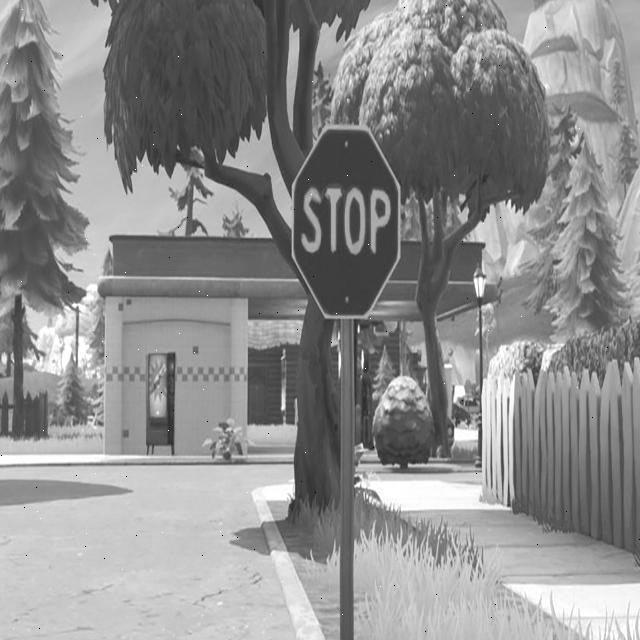Stop-sign: (282, 95, 412, 333)
